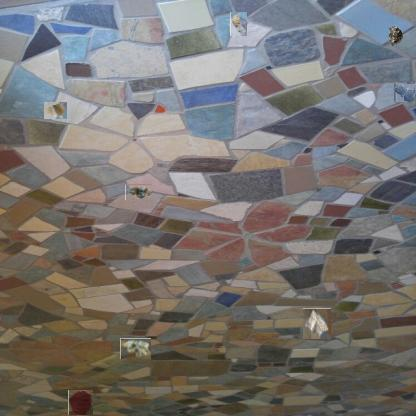dirty: (303, 309, 332, 339), (120, 338, 151, 359), (387, 24, 405, 48), (125, 184, 152, 200), (229, 14, 249, 35), (43, 102, 67, 119)
liquid: (68, 389, 93, 415), (395, 82, 416, 102)
